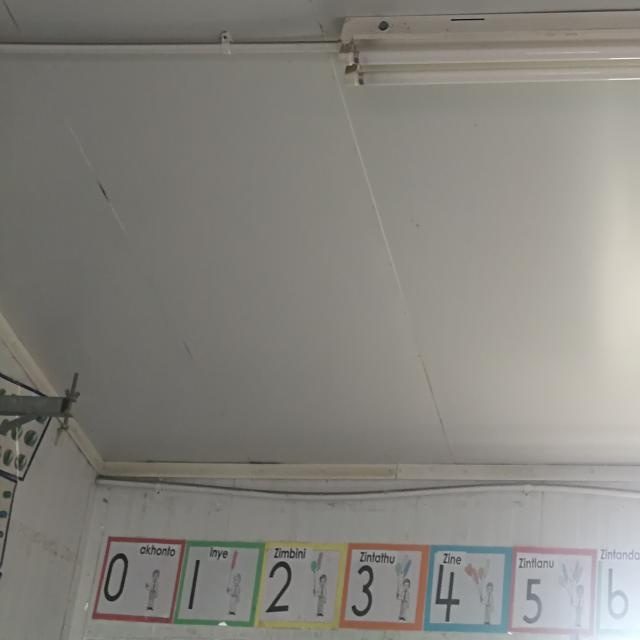fluorescent tube: (345, 0, 640, 106)
